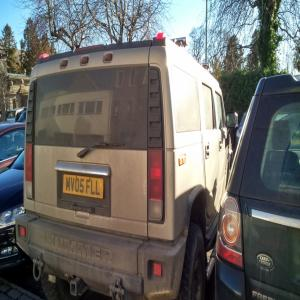Vehicle-registration-plate: (62, 172, 100, 205)
